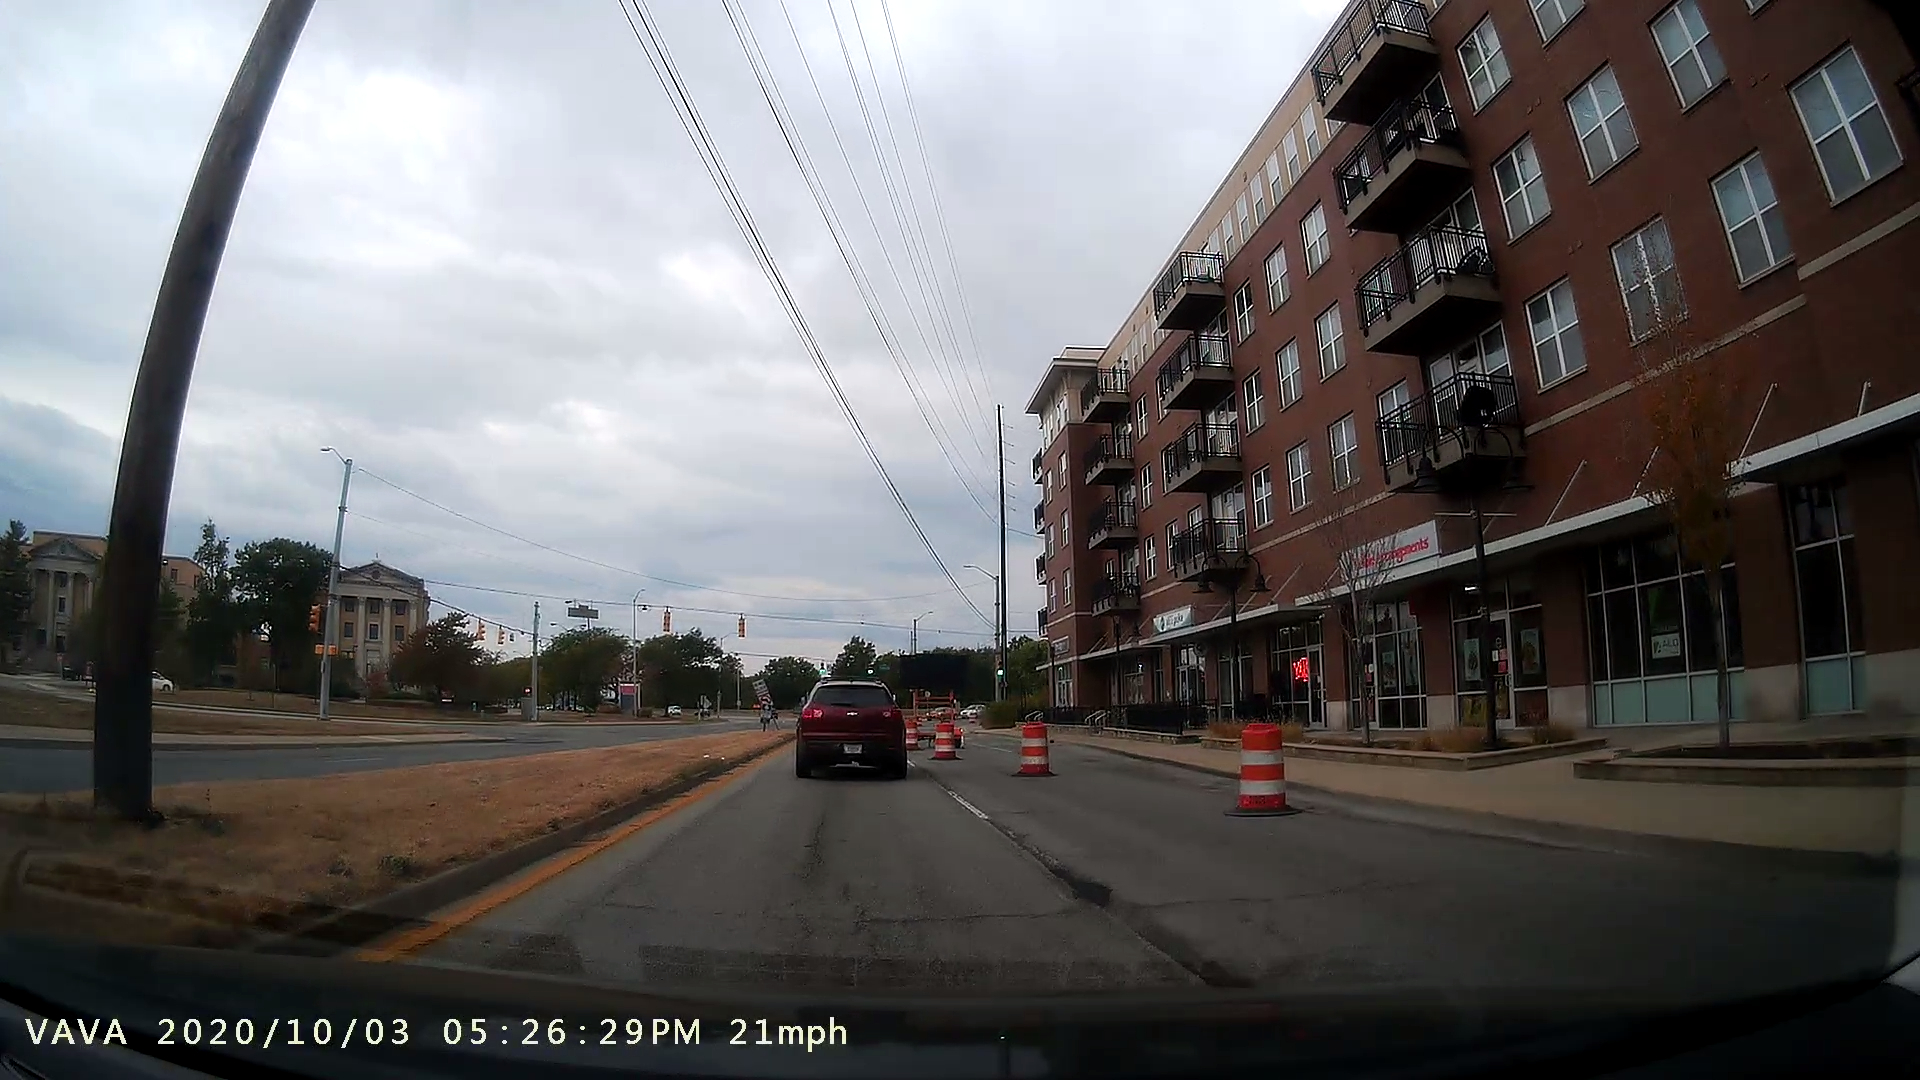const_barrel: (1218, 713, 1319, 823), (1005, 717, 1069, 782), (923, 717, 957, 766)
